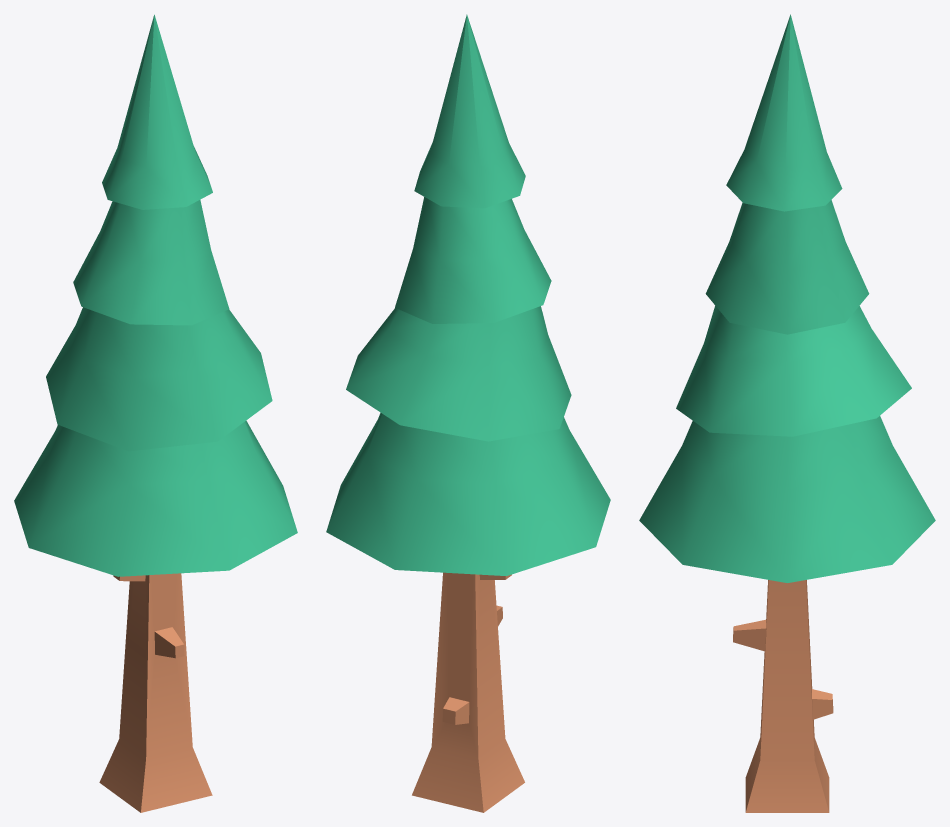
Rendered from treeHighCrooked.dae.
The picture shows the model from 3 angles, left to right: view 1: azimuth 30°, elevation 25°; view 2: azimuth 150°, elevation 25°; view 3: azimuth 270°, elevation 25°; orthographic projection.
Parts seen in each view (by area): view 1: treeHighCrooked; view 2: treeHighCrooked; view 3: treeHighCrooked.
Part boxes in pixels (<box>): treeHighCrooked: <box>14,14,297,812</box>; treeHighCrooked: <box>326,14,610,812</box>; treeHighCrooked: <box>639,14,935,812</box>.
Bounding box in the file's own units: 1.02 × 2.97 × 1.02.
